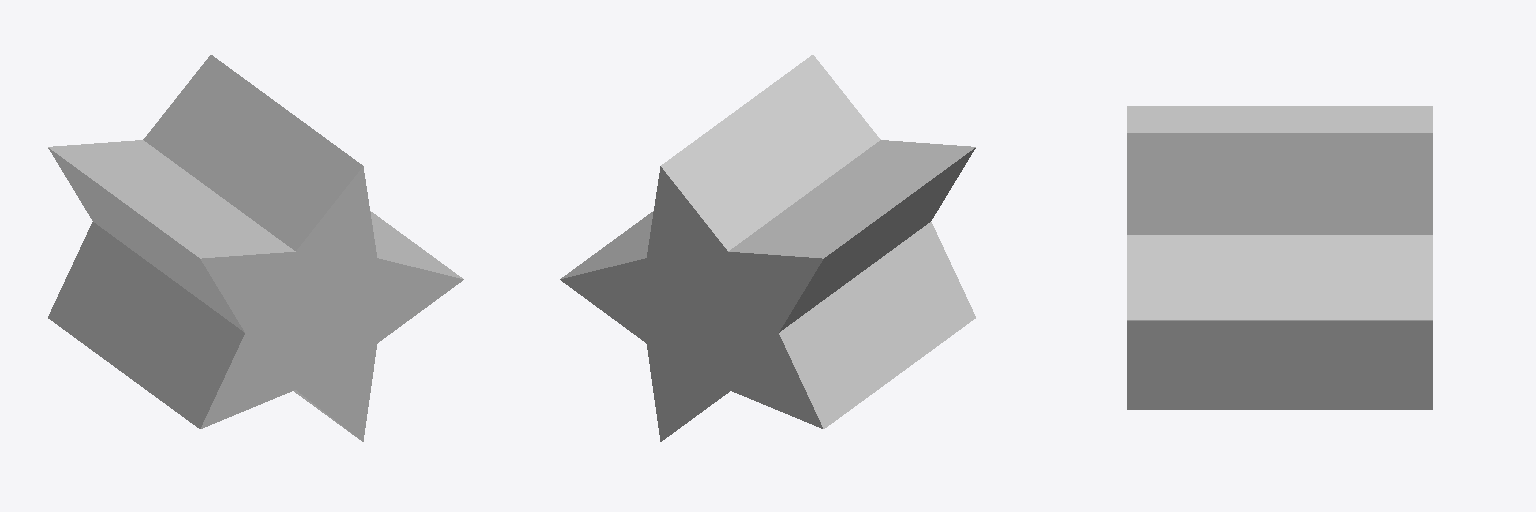
Rendered from star4.obj.
3 renders of one model, left to right at view 1: azimuth 30°, elevation 25°; view 2: azimuth 150°, elevation 25°; view 3: azimuth 270°, elevation 25°, orthographic.
Parts seen in each view (by area): view 1: obj_0; view 2: obj_0; view 3: obj_0.
Boxes of the visible parts, <box> form: obj_0: <box>48,55,463,441</box>; obj_0: <box>560,55,975,441</box>; obj_0: <box>1127,106,1432,409</box>.
Bounding box in the file's own units: 5 × 5 × 5.